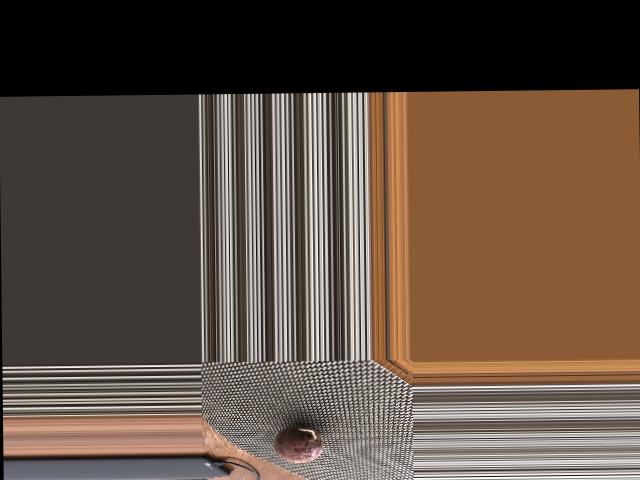beet: (273, 425, 322, 463)
